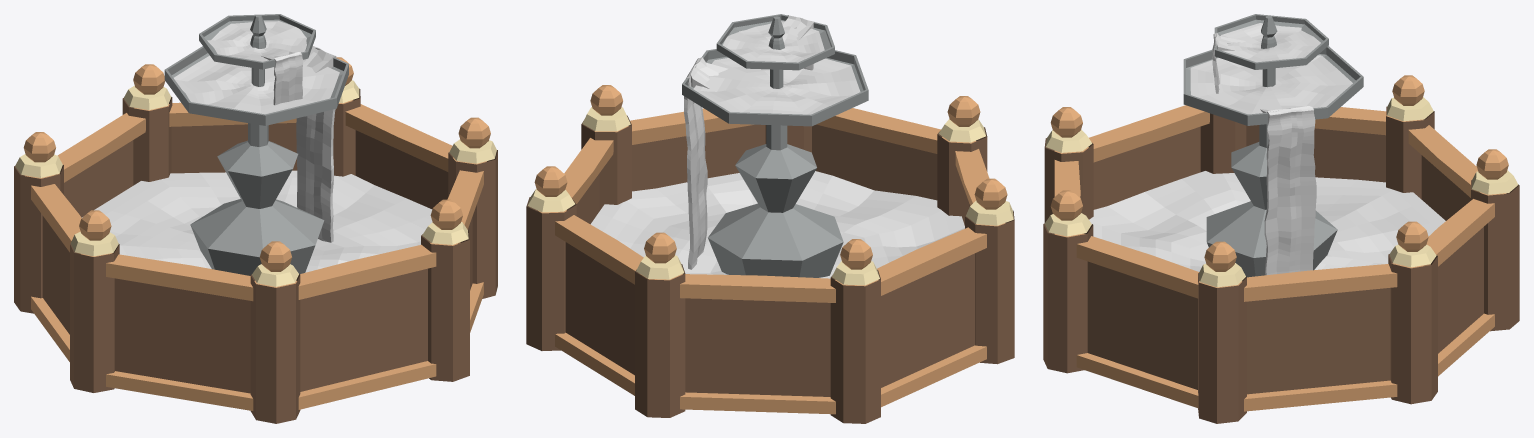
File: fountain.fbx
The picture shows the model from 3 angles, left to right: view 1: azimuth 30°, elevation 25°; view 2: azimuth 150°, elevation 25°; view 3: azimuth 270°, elevation 25°; orthographic projection.
Parts seen in each view (by area): view 1: Circle, Circle.001, Circle.010, Circle.011, Circle.004, Circle.002, Circle.005, Circle.003, Circle.012, Plane.001, Circle.008, Circle.006 (+16 smaller); view 2: Circle, Circle.010, Circle.001, Circle.011, Circle.008, Circle.009, Circle.002, Circle.012, Circle.007, Circle.005, Plane.001, Circle.013 (+16 smaller); view 3: Circle, Circle.001, Circle.011, Circle.010, Plane.001, Circle.006, Circle.007, Circle.012, Circle.002, Circle.003, Circle.009, Circle.008 (+16 smaller).
Part boxes in pixels (x1,y1,x2,y2): Circle: (42,123,472,393); Circle.001: (25,100,486,301); Circle.010: (164,14,348,275); Circle.011: (82,170,432,272); Circle.004: (250,274,300,423); Circle.002: (31,282,483,410); Circle.005: (70,243,119,392); Circle.003: (421,230,469,381); Circle.012: (174,55,339,114); Plane.001: (296,46,336,242); Circle.008: (14,165,63,313); Circle.006: (448,150,497,298); Circle: (565,124,974,396); Circle.010: (682,14,868,277); Circle.001: (537,108,1005,302); Circle.011: (590,171,964,278); Circle.008: (830,270,880,423); Circle.009: (635,264,685,417); Circle.002: (555,332,986,414); Circle.012: (693,58,860,114); Circle.007: (526,197,576,350); Circle.005: (965,210,1014,364); Plane.001: (684,57,727,269); Circle.013: (723,21,824,62); Circle: (1087,125,1483,394); Circle.001: (1054,105,1506,301); Circle.011: (1089,171,1445,271); Circle.010: (1183,14,1363,277); Plane.001: (1260,106,1316,275); Circle.006: (1198,273,1246,423); Circle.007: (1388,254,1437,404); Circle.012: (1190,55,1352,114); Circle.002: (1076,313,1494,411); Circle.003: (1043,223,1093,373); Circle.009: (1471,180,1519,331); Circle.008: (1386,106,1434,199).
Bounding box in the file's own units: 216 × 148 × 211.
